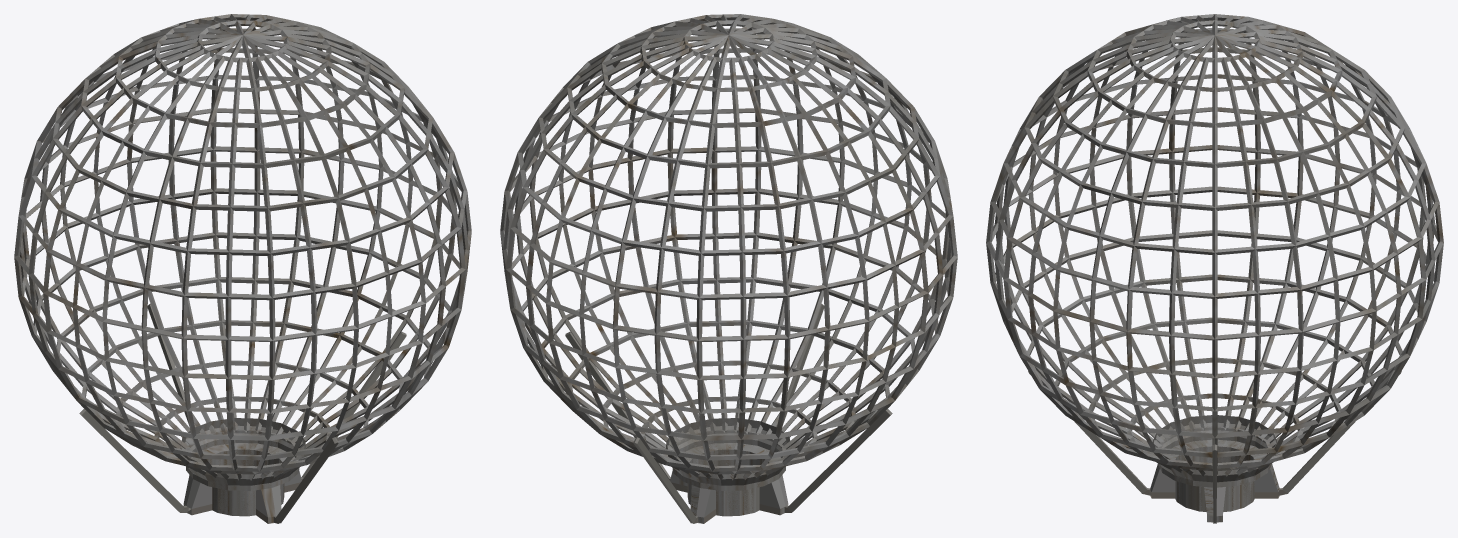
File: machine_cage.glb
The picture shows the model from 3 angles, left to right: view 1: azimuth 30°, elevation 25°; view 2: azimuth 150°, elevation 25°; view 3: azimuth 270°, elevation 25°; orthographic projection.
Parts seen in each view (by area): view 1: Cage, Base.001, BaseArm4, BaseArm3, BaseArm1, BaseArm2; view 2: Cage, Base.001, BaseArm4, BaseArm2, BaseArm1, BaseArm3; view 3: Cage, Base.001, BaseArm2, BaseArm3.
Part boxes in pixels (x1,y1,x2,y2): Cage: (14, 14, 471, 480); Base.001: (180, 418, 305, 523); BaseArm4: (79, 409, 188, 512); BaseArm3: (273, 437, 338, 523); BaseArm1: (301, 331, 406, 480); BaseArm2: (147, 303, 196, 427); Cage: (500, 14, 957, 480); Base.001: (666, 418, 791, 523); BaseArm4: (784, 409, 892, 512); BaseArm2: (633, 437, 698, 523); BaseArm1: (565, 331, 670, 480); BaseArm3: (775, 303, 824, 427); Cage: (986, 14, 1443, 476); Base.001: (1150, 415, 1279, 522); BaseArm2: (1278, 371, 1401, 495); BaseArm3: (1028, 371, 1151, 495).
Bounding box in the file's own units: 0.2916 × 0.3234 × 0.2916.
1 material, 1 textured.
